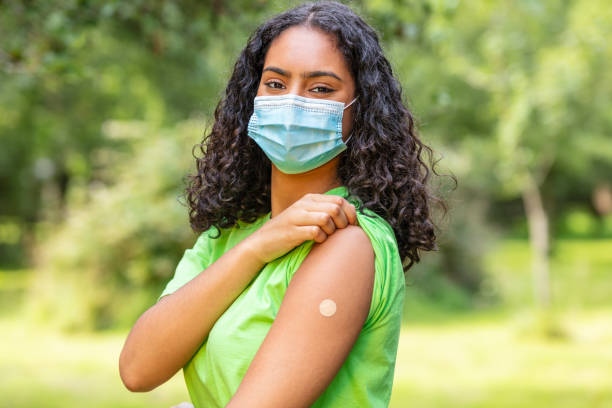with mask: (241, 23, 370, 173)
